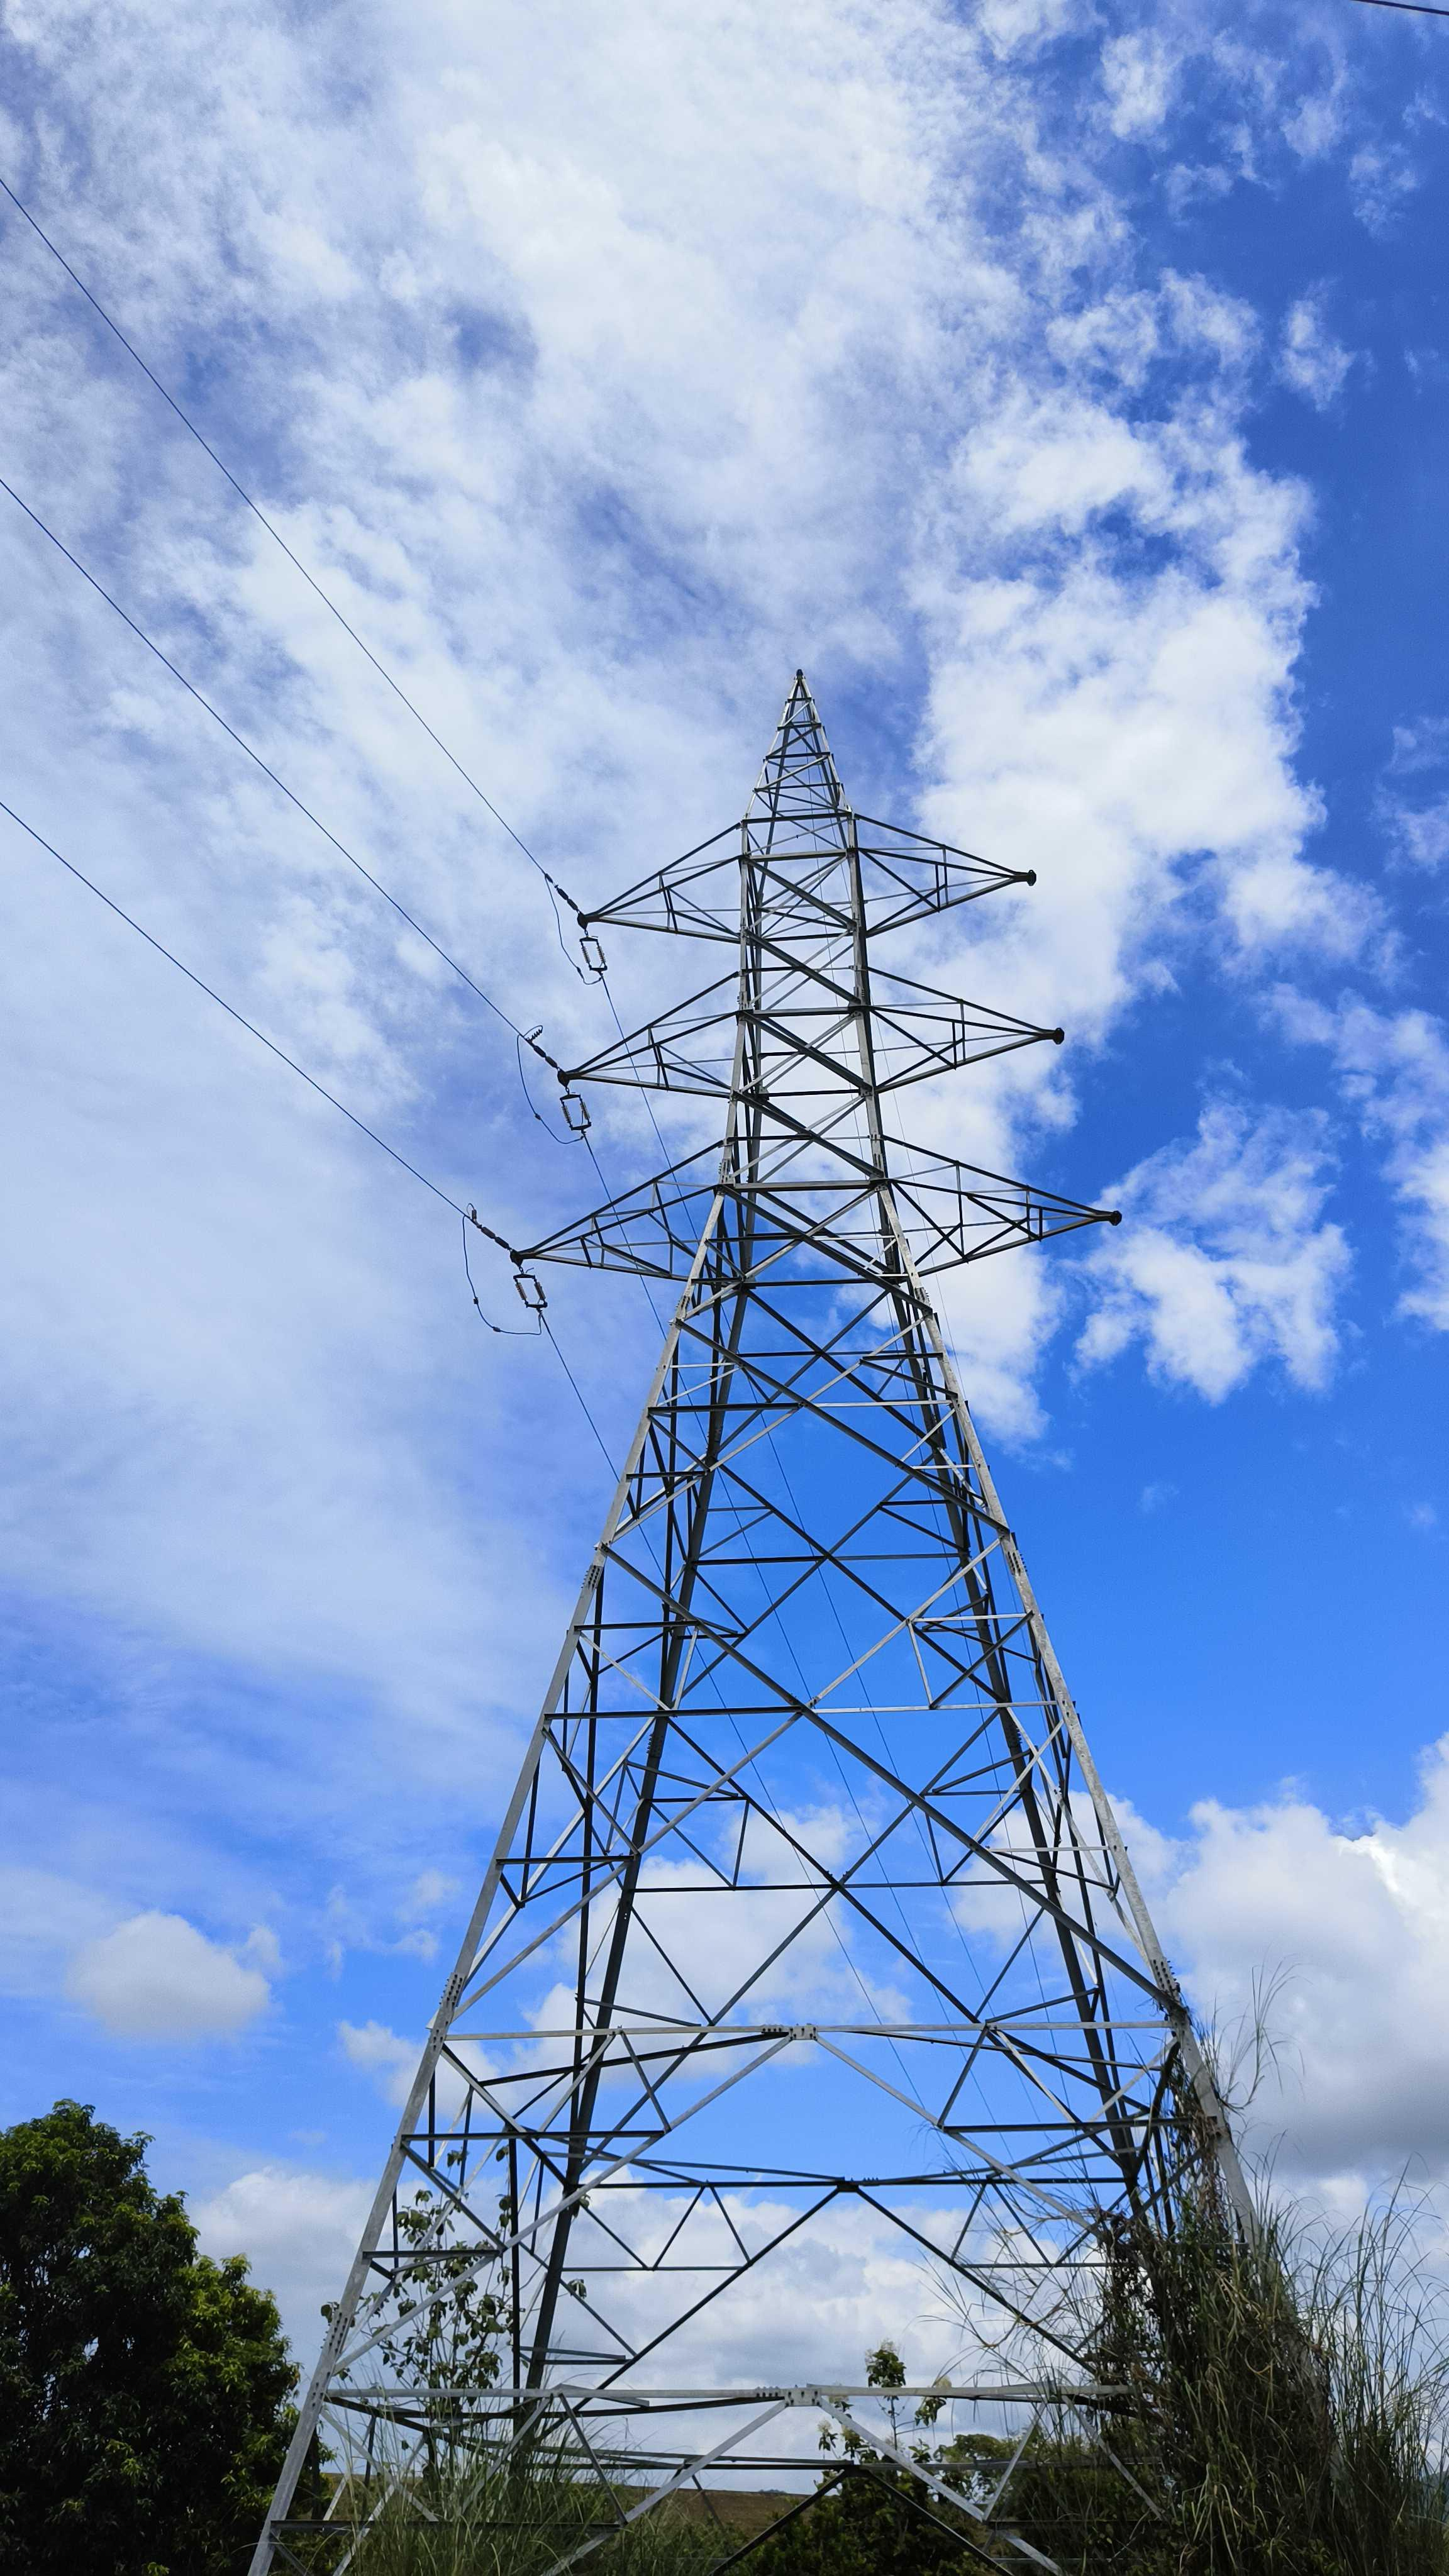GSM Antenna: (354, 646, 1253, 2185)
